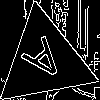A: (20, 35, 73, 92)
